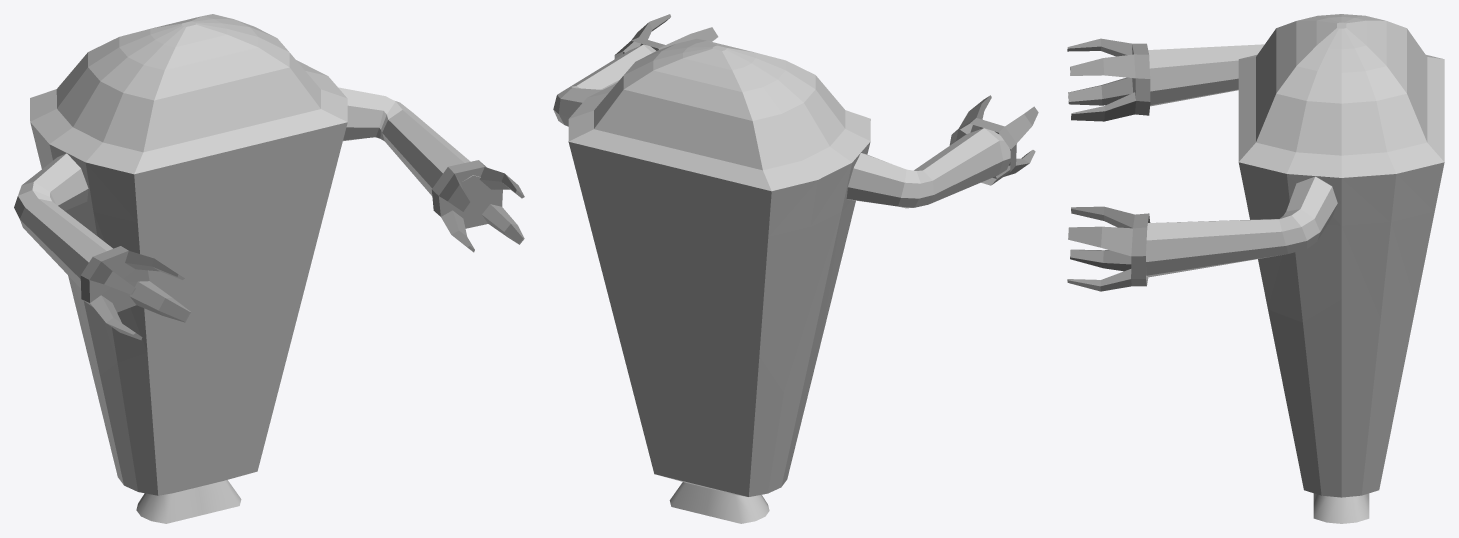
Rendered from Robot_Broken.FBX.
The picture shows the model from 3 angles, left to right: view 1: azimuth 30°, elevation 25°; view 2: azimuth 150°, elevation 25°; view 3: azimuth 270°, elevation 25°; orthographic projection. The views are drawn at different scales.
Parts seen in each view (by area): view 1: Upper_Body, Lower_Body, Arm_Right, Arm_Left, Hand_Right, Hand_Left; view 2: Upper_Body, Lower_Body, Arm_Right, Arm_Left, Hand_Right, Hand_Left; view 3: Upper_Body, Lower_Body, Arm_Left, Hand_Right, Hand_Left, Arm_Right.
Part boxes in pixels (x1=…): Upper_Body: x1=30, y1=14, x2=347, y2=375; Lower_Body: x1=89, y1=279, x2=307, y2=523; Arm_Right: x1=14, y1=153, x2=112, y2=288; Arm_Left: x1=338, y1=87, x2=480, y2=195; Hand_Right: x1=80, y1=246, x2=190, y2=340; Hand_Left: x1=431, y1=160, x2=524, y2=252; Upper_Body: x1=568, y1=38, x2=870, y2=392; Lower_Body: x1=606, y1=286, x2=819, y2=523; Arm_Right: x1=846, y1=128, x2=1010, y2=208; Arm_Left: x1=553, y1=44, x2=655, y2=126; Hand_Right: x1=949, y1=95, x2=1038, y2=185; Hand_Left: x1=614, y1=14, x2=718, y2=58; Upper_Body: x1=1238, y1=14, x2=1444, y2=322; Lower_Body: x1=1268, y1=299, x2=1415, y2=523; Arm_Left: x1=1146, y1=176, x2=1337, y2=277; Hand_Right: x1=1067, y1=38, x2=1150, y2=121; Hand_Left: x1=1067, y1=206, x2=1150, y2=291; Arm_Right: x1=1148, y1=44, x2=1264, y2=106.
Bounding box in the file's own units: 14.88 × 16.4 × 11.8.
